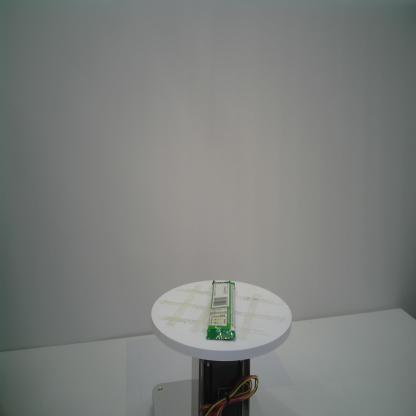Chocolate: (206, 279, 235, 341)
